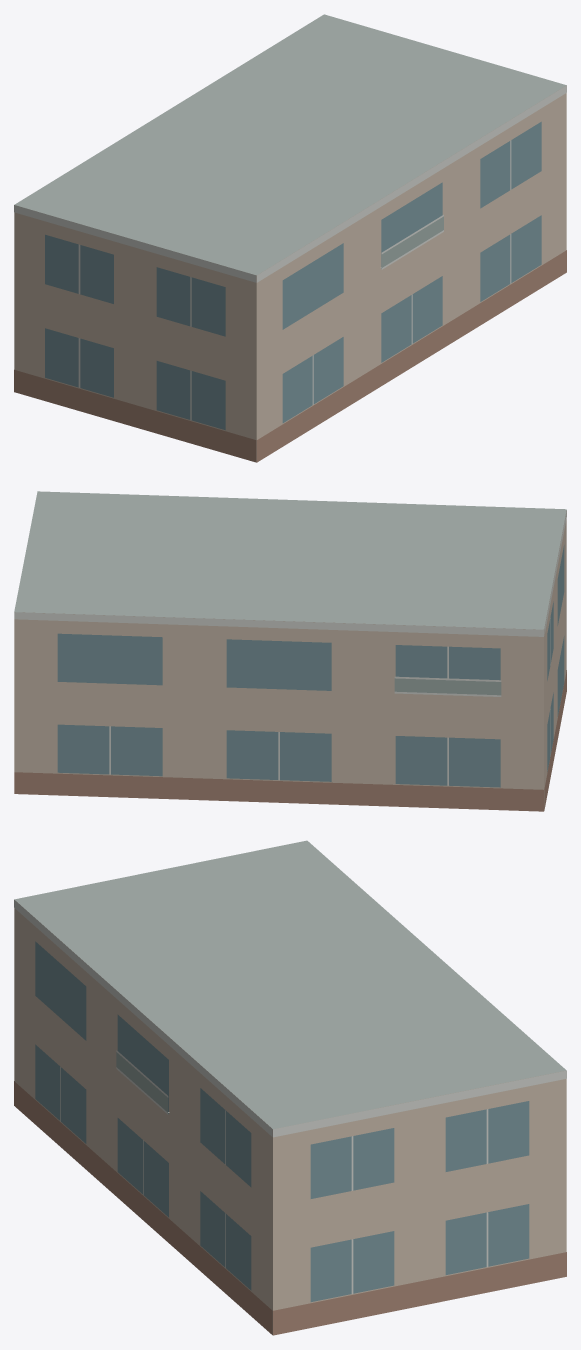
Rendered from survey-upis-32698020.glb.
The picture shows the model from 3 angles, top to bottom: view 1: azimuth 30°, elevation 25°; view 2: azimuth 150°, elevation 25°; view 3: azimuth 270°, elevation 25°; orthographic projection. The views are drawn at different scales.
Parts seen in each view (by area): view 1: survey-upis-32698020.tmp; view 2: survey-upis-32698020.tmp; view 3: survey-upis-32698020.tmp.
Boxes of the visible parts, box(x1,y1,x2,y2) form: survey-upis-32698020.tmp: box(14, 14, 566, 462); survey-upis-32698020.tmp: box(14, 491, 566, 811); survey-upis-32698020.tmp: box(14, 840, 566, 1335).
Size of the model in its own units: 18.33 by 6.1 by 14.82.
